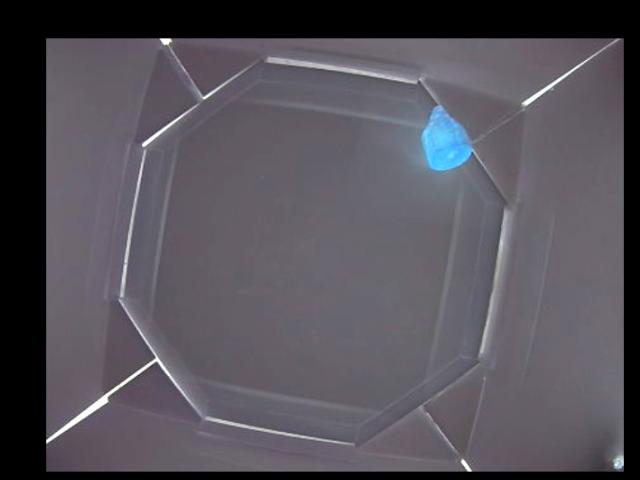Carrot: (421, 106, 473, 171)
